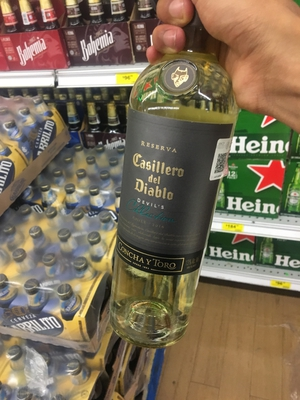casillero del diablo devils collection verde: (114, 11, 232, 358)
